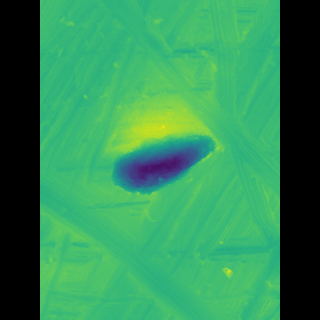Loch: (71, 162, 208, 319), (191, 0, 249, 247), (121, 127, 209, 201)
